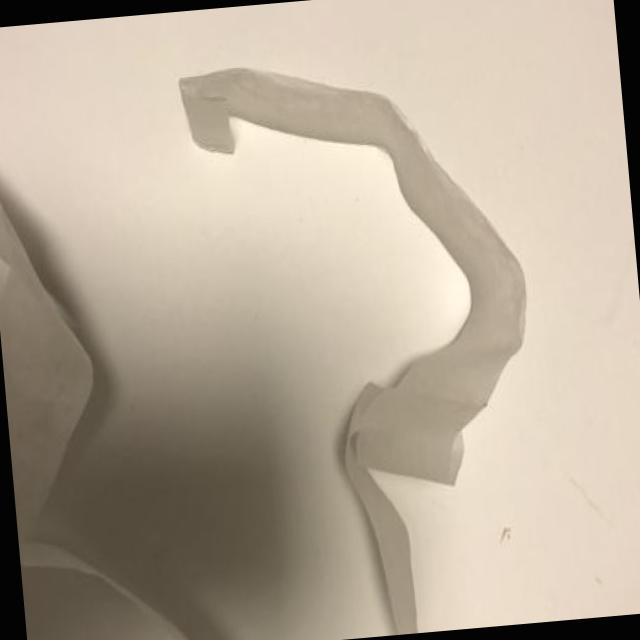giay: (179, 67, 526, 634), (0, 210, 224, 640)
